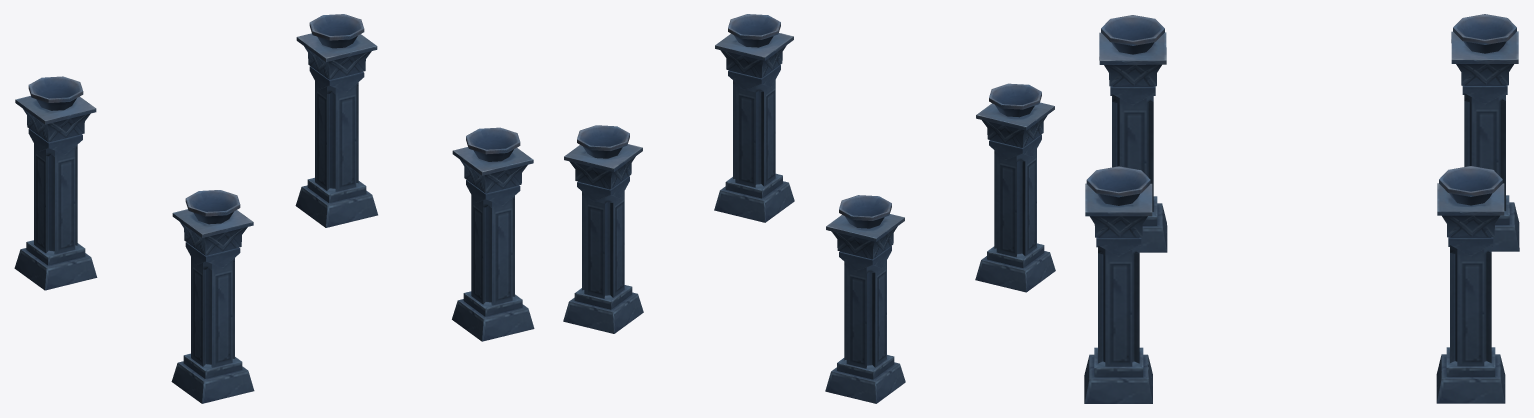
File: wujian57.fbx
3 views of the same model, side by side, from view 1: azimuth 30°, elevation 25°; view 2: azimuth 150°, elevation 25°; view 3: azimuth 270°, elevation 25° (orthographic). The views are drawn at different scales.
Parts seen in each view (by area): view 1: wujian57; view 2: wujian57; view 3: wujian57.
Boxes of the visible parts, <box> form: wujian57: <box>14,14,534,403</box>; wujian57: <box>563,14,1055,403</box>; wujian57: <box>1084,14,1519,403</box>.
Size of the model in its own units: 963 by 519 by 977.
1 material, 1 textured.
